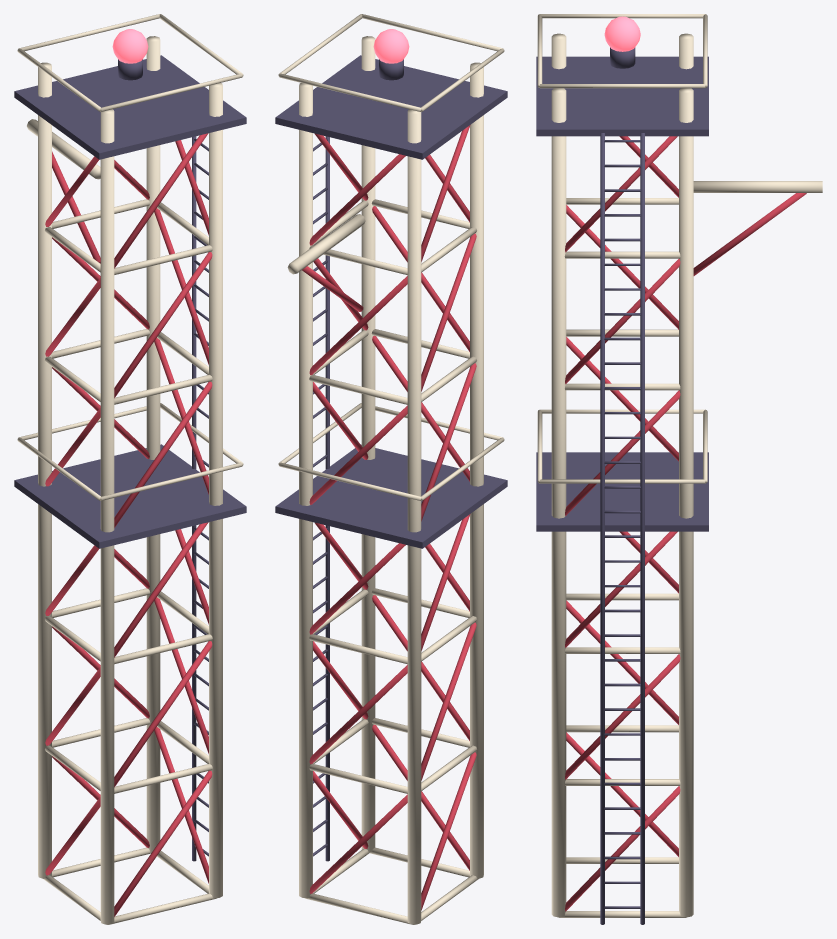
File: gantry.glb
3 views of the same model, side by side, from view 1: azimuth 30°, elevation 25°; view 2: azimuth 150°, elevation 25°; view 3: azimuth 270°, elevation 25° (orthographic).
Visible parts, largest first — view 1: gantry; view 2: gantry; view 3: gantry.
Boxes of the visible parts, left/top/right/bottom form: gantry: left=14, top=14, right=246, bottom=924; gantry: left=275, top=14, right=507, bottom=924; gantry: left=536, top=14, right=822, bottom=924.
Size of the model in its own units: 1.93 by 10.59 by 3.15.
